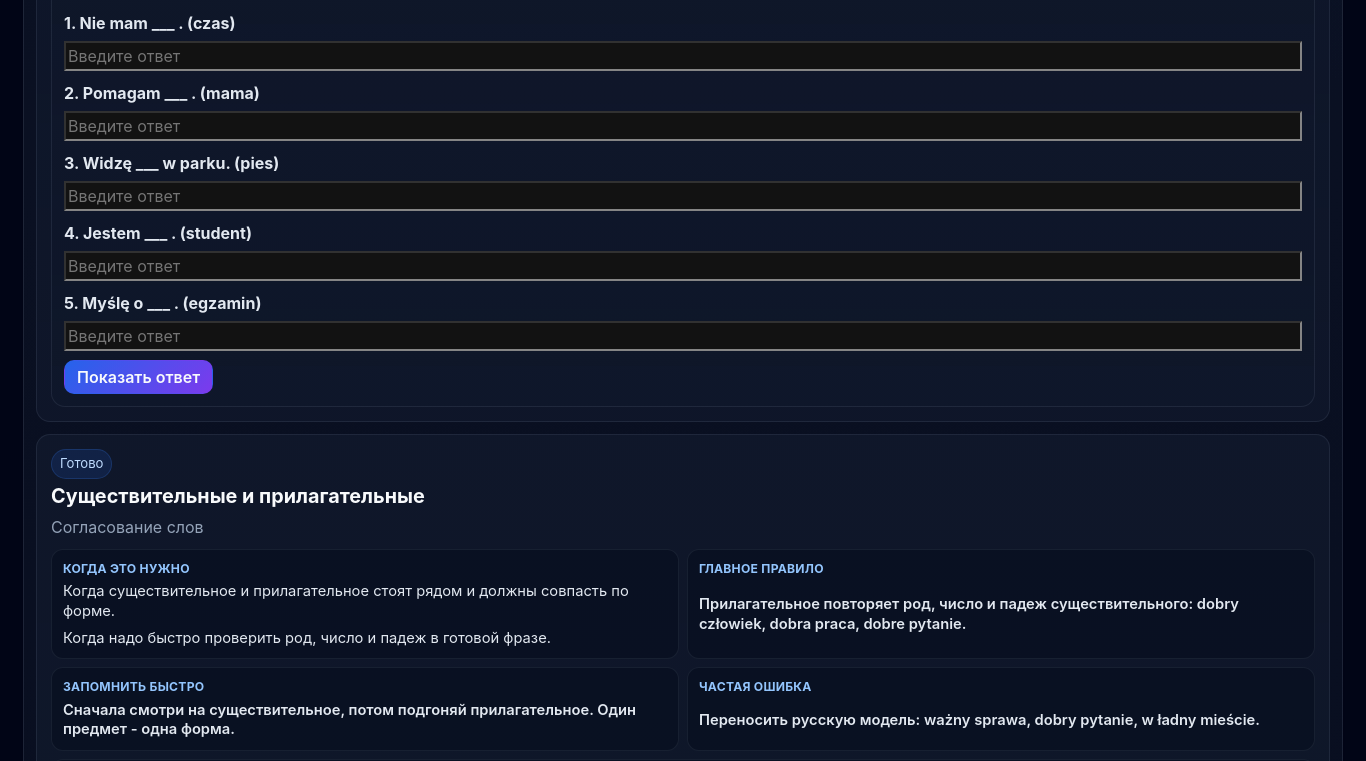
GrammarB1Screen › keeps mini-test answers hidden until reveal
The width and height of the screenshot is (1366, 761).
(page scrolled)
Check: the text "Нужно:" is not shown
Click the button "Показать ответ" at (139, 378), box [64,360,213,394]
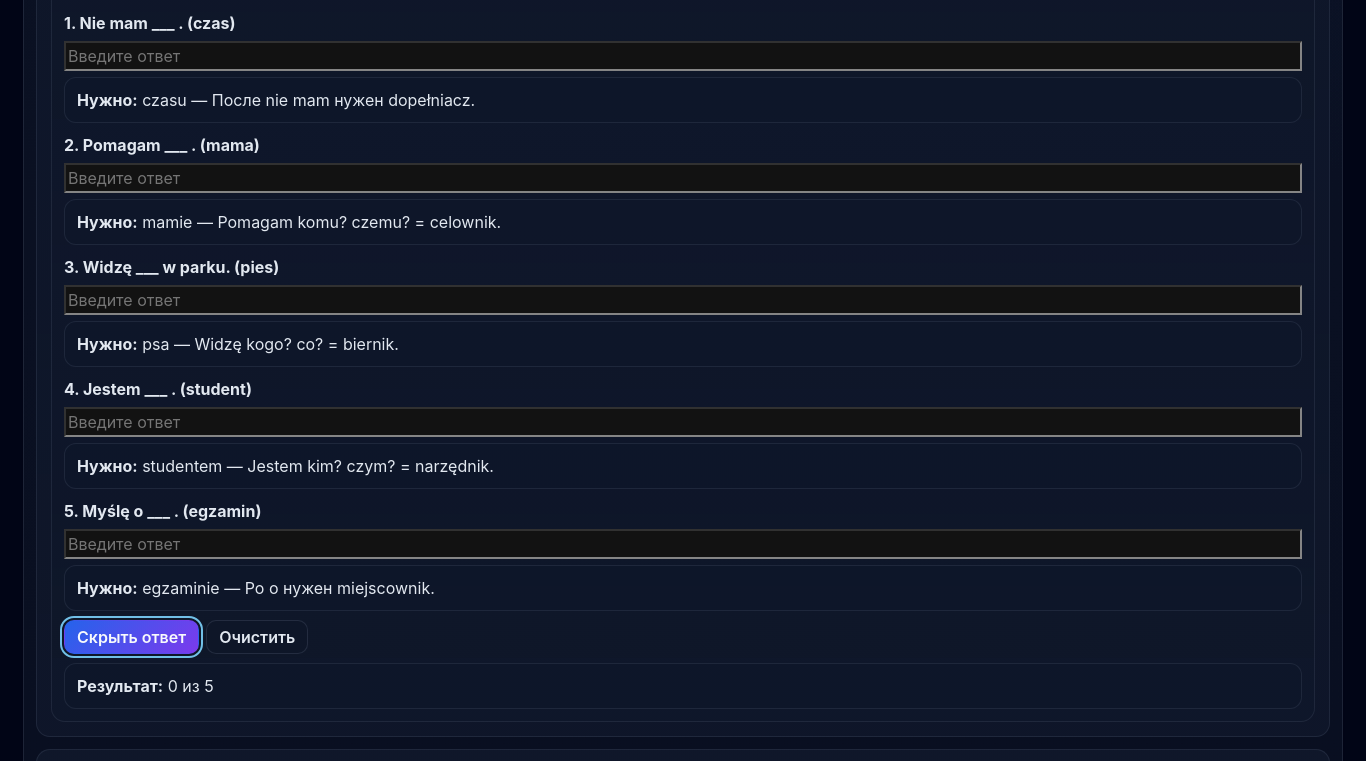
Check: the text "Нужно:" next to "czasu" is shown, box [77,90,138,110]
Check: the button "Скрыть ответ" is shown, box [64,620,199,654]
